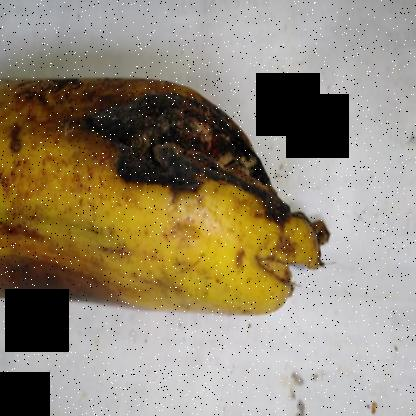ripe: (0, 41, 84, 335)
rotten: (70, 66, 296, 217), (0, 246, 159, 351)
